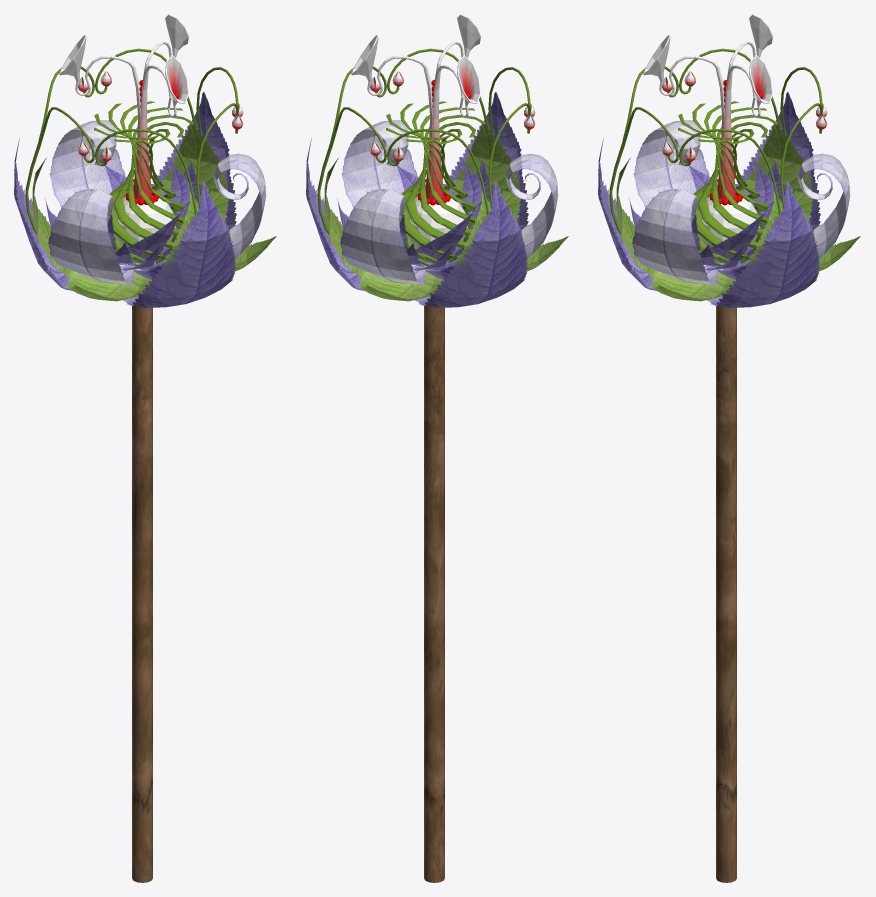
The model's file is flower.fbx.
3 renders of one model, left to right at view 1: azimuth 30°, elevation 25°; view 2: azimuth 150°, elevation 25°; view 3: azimuth 270°, elevation 25°, orthographic.
Visible parts, largest first — view 1: Cylinder, Leaf_Purple_BIG_001, Leaf_White_001, Leaf_White_002, Tendrils, Leaf_White_003, Leaf_Green_Big_001, Leafs_Purple_Middle, MainBud_001, Leaf_Purple_BIG_003, Leaf_Green_Small_001, Leaf_Purple_BIG_002 (+11 smaller); view 2: Cylinder, Leaf_Purple_BIG_002, Leaf_White_002, Leaf_White_003, Tendrils, Leaf_White_001, Leaf_Green_Big_002, Leafs_Purple_Middle, MainBud_003, Leaf_Purple_BIG_001, Leaf_Green_Small_002, Leaf_Purple_BIG_003 (+11 smaller); view 3: Cylinder, Leaf_Purple_BIG_003, Leaf_White_003, Leaf_White_001, Tendrils, Leaf_White_002, Leaf_Green_Big_003, Leafs_Purple_Middle, MainBud_002, Leaf_Purple_BIG_002, Leaf_Green_Small_003, Leaf_Purple_BIG_001 (+11 smaller).
Boxes of the visible parts, <box> form: Cylinder: <box>132,306,152,882</box>; Leaf_Purple_BIG_001: <box>123,181,236,307</box>; Leaf_White_001: <box>48,189,136,284</box>; Leaf_White_002: <box>49,120,125,207</box>; Tendrils: <box>25,48,238,234</box>; Leaf_White_003: <box>213,153,266,257</box>; Leaf_Green_Big_001: <box>156,123,228,221</box>; Leafs_Purple_Middle: <box>74,163,210,263</box>; MainBud_001: <box>137,55,188,200</box>; Leaf_Purple_BIG_003: <box>151,92,236,230</box>; Leaf_Green_Small_001: <box>66,266,152,301</box>; Leaf_Purple_BIG_002: <box>14,138,73,291</box>; Cylinder: <box>424,306,444,882</box>; Leaf_Purple_BIG_002: <box>415,181,528,307</box>; Leaf_White_002: <box>340,189,428,284</box>; Leaf_White_003: <box>341,120,417,207</box>; Tendrils: <box>317,48,530,234</box>; Leaf_White_001: <box>505,153,558,257</box>; Leaf_Green_Big_002: <box>448,123,520,221</box>; Leafs_Purple_Middle: <box>366,163,502,263</box>; MainBud_003: <box>429,55,480,200</box>; Leaf_Purple_BIG_001: <box>428,92,528,263</box>; Leaf_Green_Small_002: <box>358,266,444,301</box>; Leaf_Purple_BIG_003: <box>306,138,365,291</box>; Cylinder: <box>716,306,736,882</box>; Leaf_Purple_BIG_003: <box>707,181,820,307</box>; Leaf_White_003: <box>632,189,720,284</box>; Leaf_White_001: <box>633,120,709,207</box>; Tendrils: <box>609,48,822,234</box>; Leaf_White_002: <box>797,153,850,257</box>; Leaf_Green_Big_003: <box>740,123,812,221</box>; Leafs_Purple_Middle: <box>658,163,794,263</box>; MainBud_002: <box>721,55,772,200</box>; Leaf_Purple_BIG_002: <box>735,92,820,230</box>; Leaf_Green_Small_003: <box>650,266,736,301</box>; Leaf_Purple_BIG_001: <box>598,138,657,291</box>.
Bounding box in the file's own units: 94.71 × 359 × 102.
9 materials, 6 textured.
